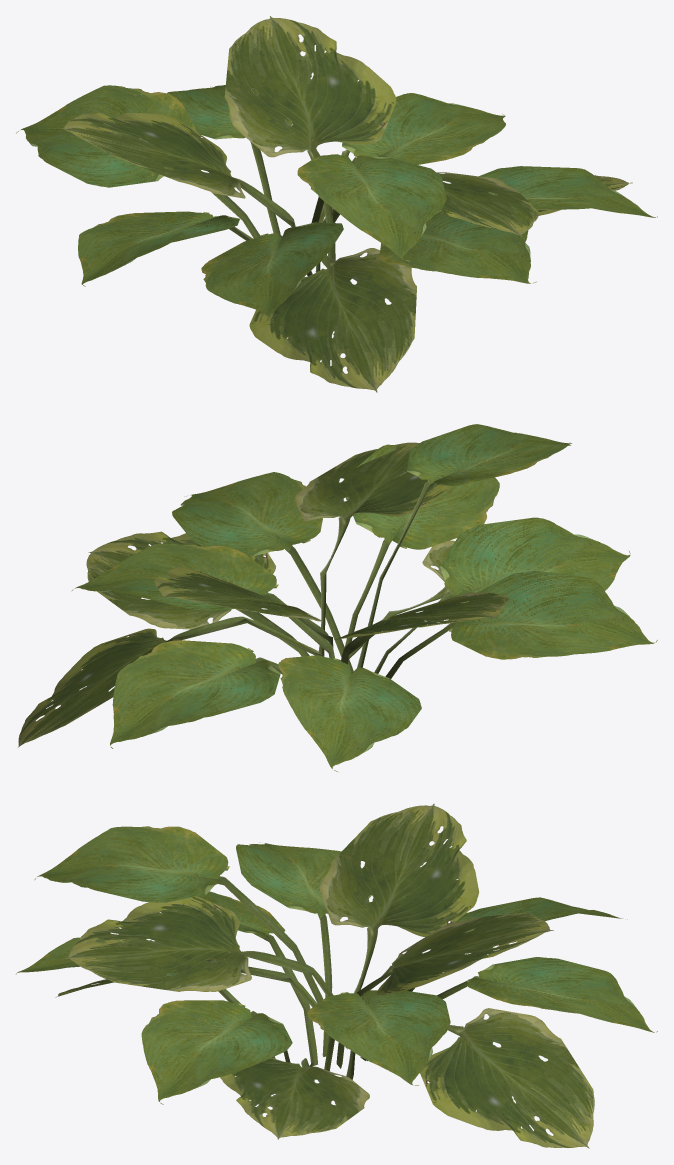
The model's file is NaturePlant01_1.FBX.
The picture shows the model from 3 angles, top to bottom: view 1: azimuth 30°, elevation 25°; view 2: azimuth 150°, elevation 25°; view 3: azimuth 270°, elevation 25°; orthographic projection. The views are drawn at different scales.
Visible parts, largest first — view 1: Nature01; view 2: Nature01; view 3: Nature01.
Part boxes in pixels (bbox=[...]): Nature01: bbox=[16, 16, 657, 392]; Nature01: bbox=[18, 424, 657, 772]; Nature01: bbox=[15, 803, 657, 1148].
Size of the model in its own units: 70.69 by 26.8 by 74.
1 material, 1 textured.
